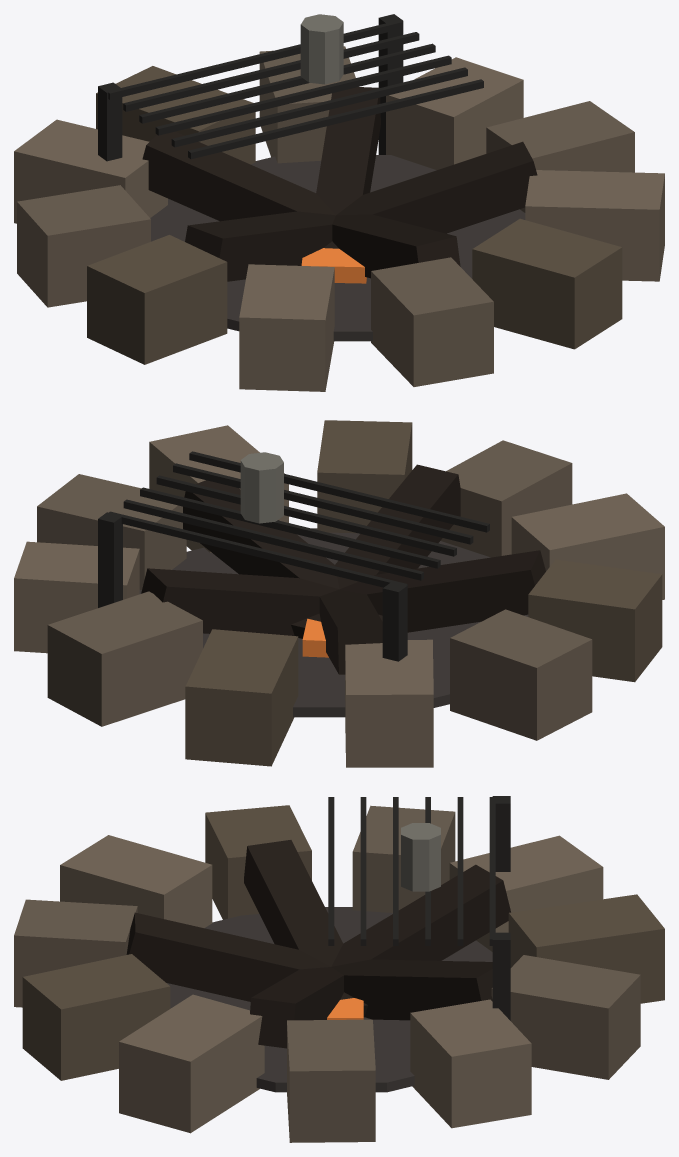
File: FirePit.glb
3 renders of one model, top to bottom at view 1: azimuth 30°, elevation 25°; view 2: azimuth 150°, elevation 25°; view 3: azimuth 270°, elevation 25°, orthographic.
Parts seen in each view (by area): view 1: FirePit; view 2: FirePit; view 3: FirePit.
Boxes of the visible parts, box(x1,y1,x2,y2) form: FirePit: box(14, 14, 664, 391); FirePit: box(14, 420, 664, 767); FirePit: box(14, 796, 664, 1142).
Bounding box in the file's own units: 1.76 × 0.6358 × 1.82.
